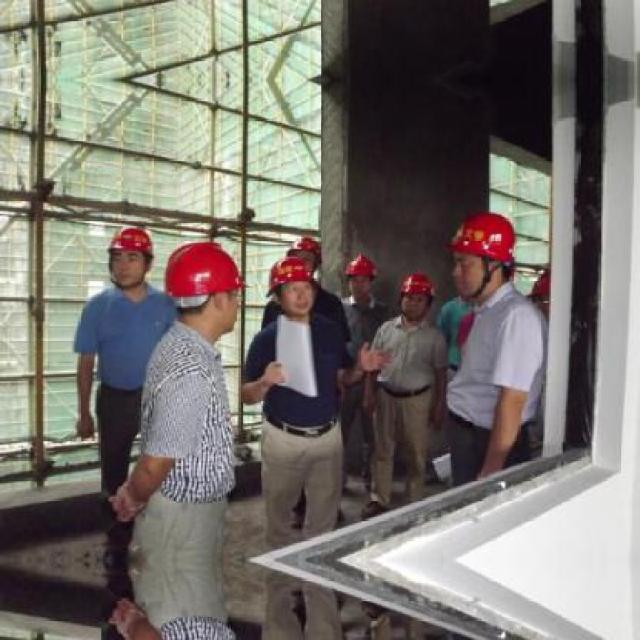helmet: (158, 240, 245, 338), (445, 210, 509, 295), (269, 248, 322, 314), (104, 222, 158, 286), (396, 270, 438, 321), (342, 250, 378, 301), (287, 233, 322, 278)
